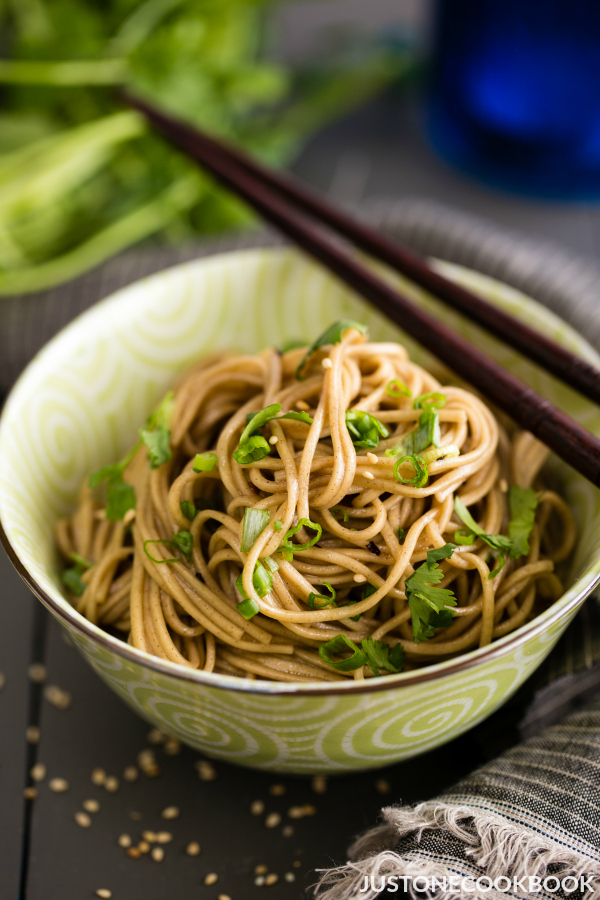Soba: (71, 341, 561, 669)
